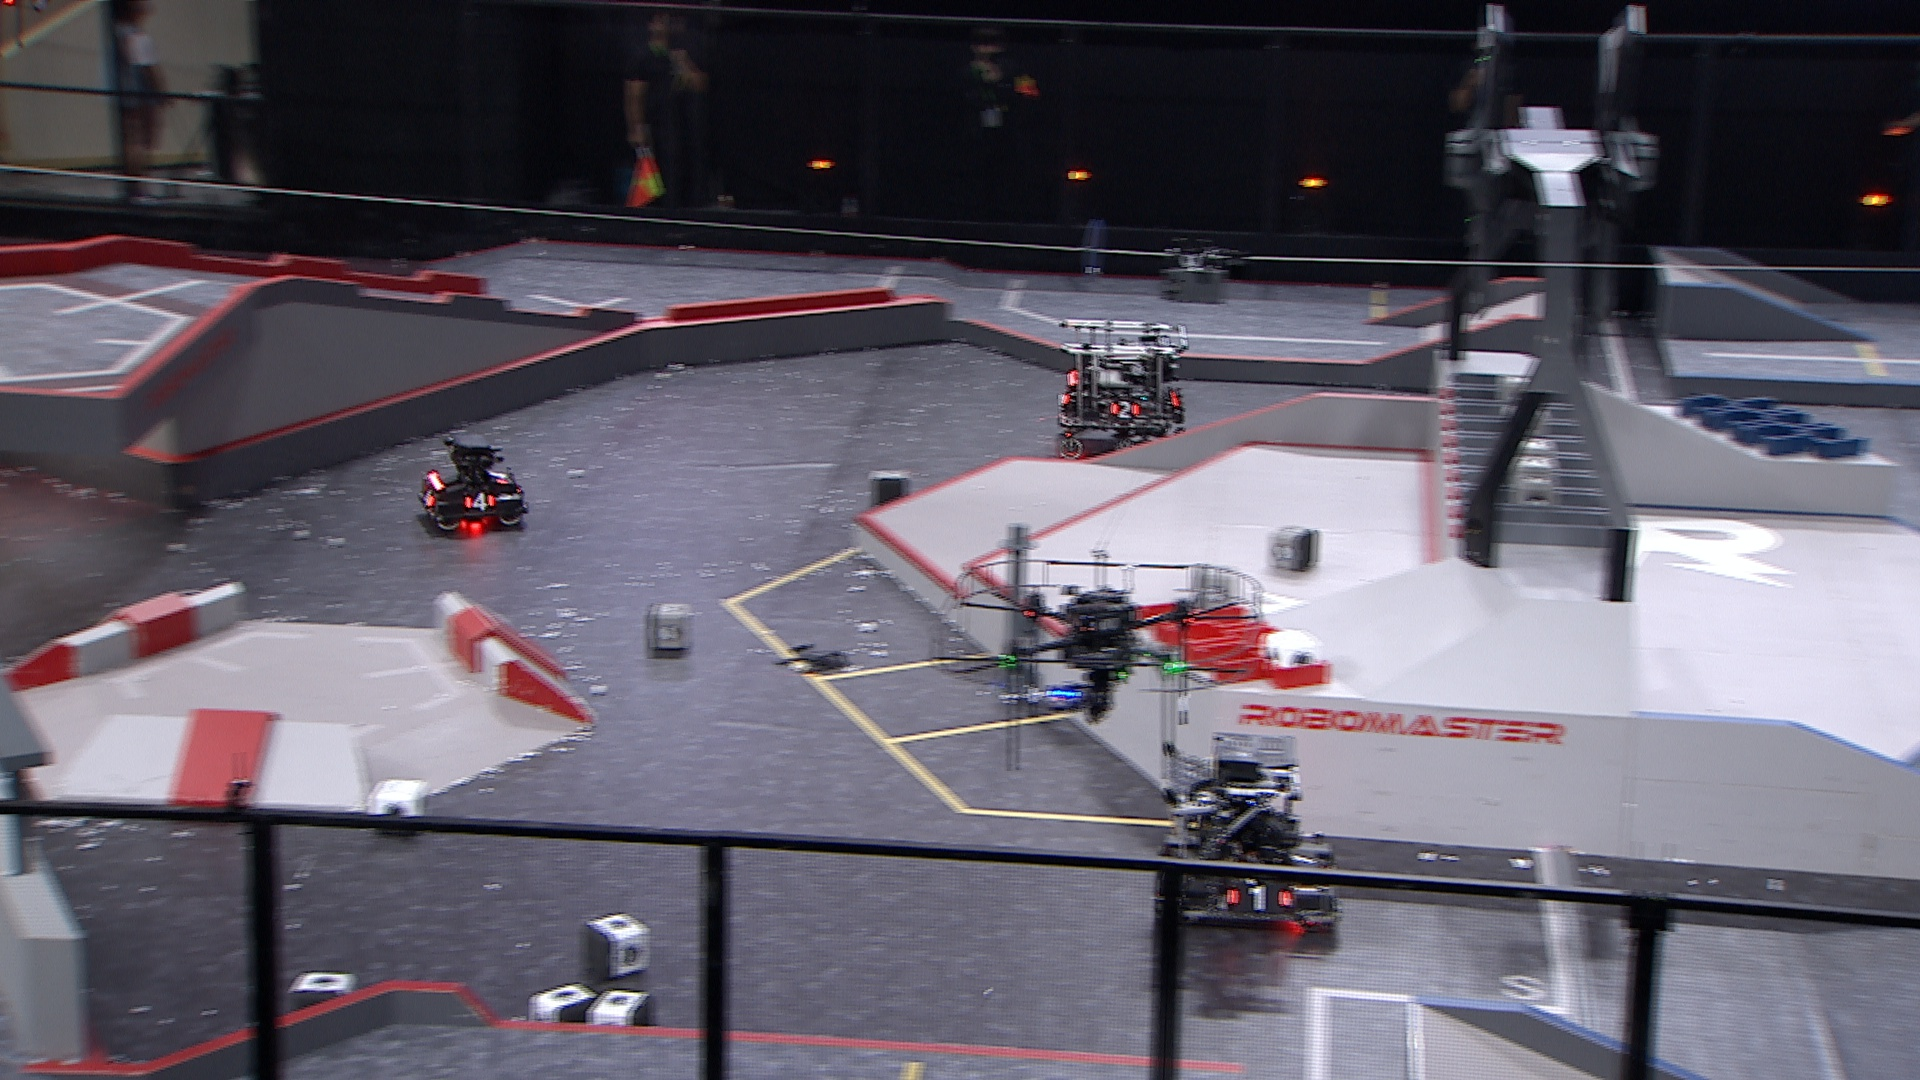armor: (1224, 880, 1295, 913), (460, 491, 496, 513), (1291, 847, 1321, 870), (1109, 400, 1141, 422), (487, 471, 513, 487), (418, 487, 436, 508)
car: (1155, 731, 1342, 938), (1054, 315, 1188, 460), (415, 433, 531, 531)
